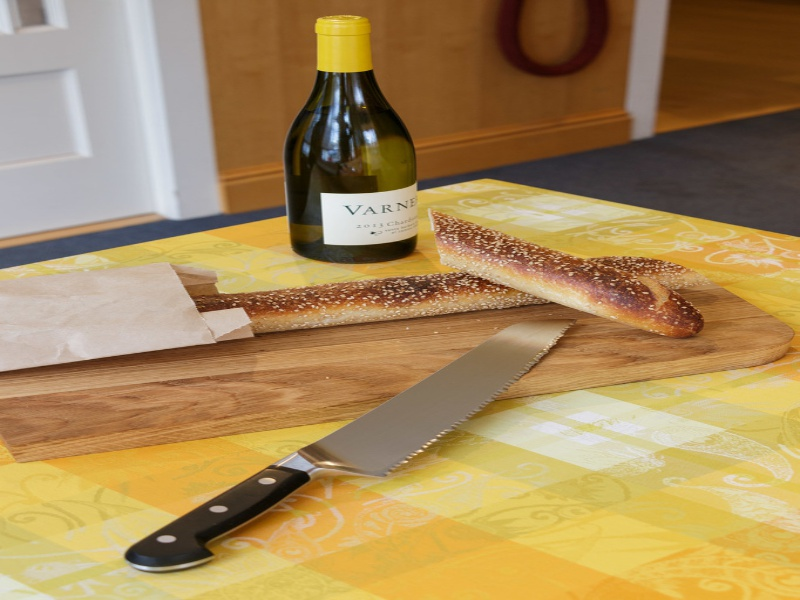knife: (120, 314, 579, 574)
